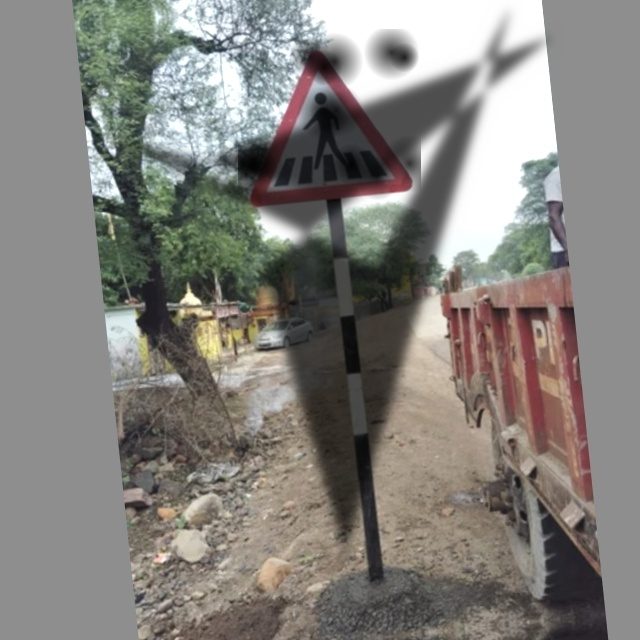Pedestrian_Crossing: (238, 29, 421, 210)
